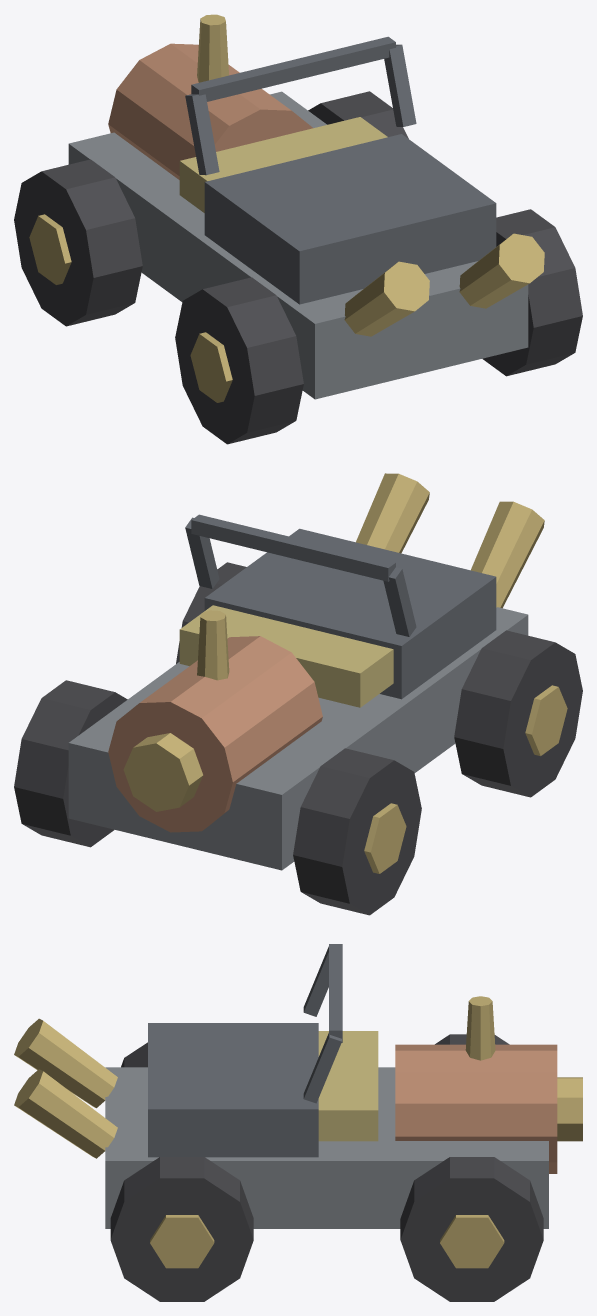
Rendered from gnome-car.glb.
3 renders of one model, top to bottom at view 1: azimuth 30°, elevation 25°; view 2: azimuth 150°, elevation 25°; view 3: azimuth 270°, elevation 25°, orthographic. The views are drawn at different scales.
Parts seen in each view (by area): view 1: Body; view 2: Body; view 3: Body.
Part boxes in pixels (box(x1,y1,x2,y2)): Body: box(14, 14, 582, 444); Body: box(14, 473, 582, 915); Body: box(14, 944, 582, 1301).
Size of the model in its own units: 2.08 by 1.57 by 3.34.
